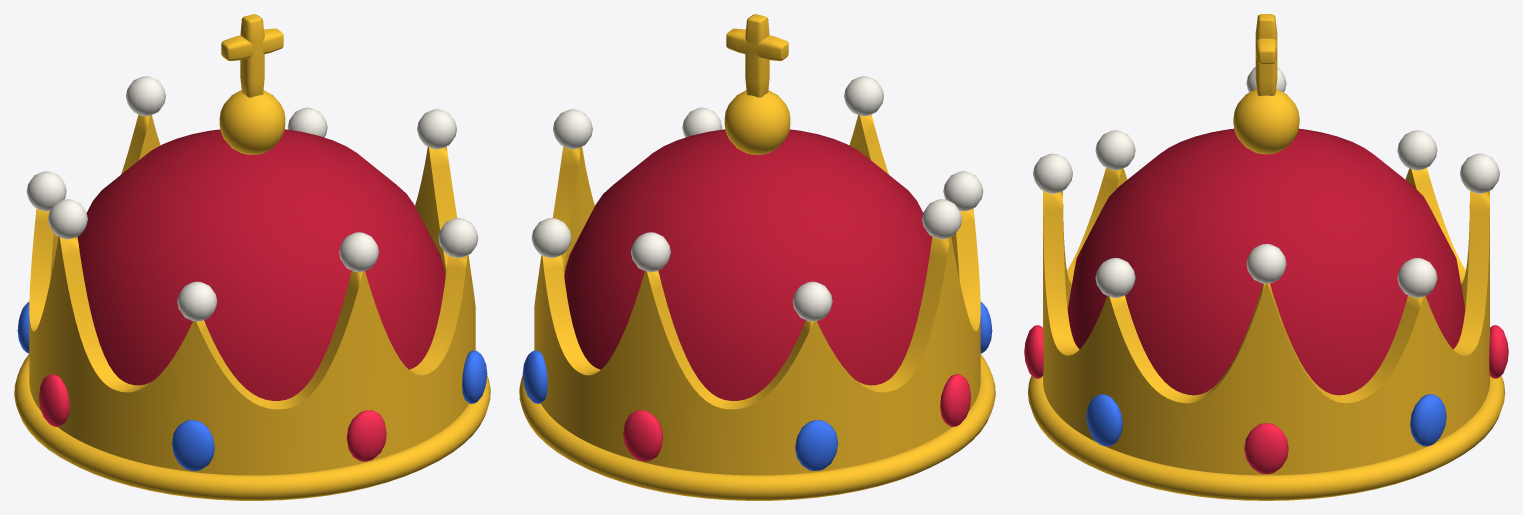
File: RoyalCrown.obj
3 views of the same model, side by side, from view 1: azimuth 30°, elevation 25°; view 2: azimuth 150°, elevation 25°; view 3: azimuth 270°, elevation 25° (orthographic).
Parts seen in each view (by area): view 1: CrownGold, CrownVelvet, CrownPearl, CrownSapphire, CrownRuby; view 2: CrownGold, CrownVelvet, CrownPearl, CrownSapphire, CrownRuby; view 3: CrownGold, CrownVelvet, CrownPearl, CrownRuby, CrownSapphire.
Boxes of the visible parts, x1=… form: CrownGold: x1=14, y1=14, x2=490, y2=500; CrownVelvet: x1=77, y1=129, x2=445, y2=400; CrownPearl: x1=26, y1=76, x2=478, y2=321; CrownSapphire: x1=17, y1=302, x2=487, y2=470; CrownRuby: x1=39, y1=374, x2=386, y2=461; CrownGold: x1=519, y1=14, x2=995, y2=500; CrownVelvet: x1=564, y1=129, x2=932, y2=400; CrownPearl: x1=531, y1=76, x2=983, y2=321; CrownSapphire: x1=522, y1=302, x2=992, y2=470; CrownRuby: x1=623, y1=374, x2=970, y2=461; CrownGold: x1=1027, y1=14, x2=1505, y2=500; CrownVelvet: x1=1067, y1=128, x2=1465, y2=395; CrownPearl: x1=1033, y1=67, x2=1499, y2=297; CrownRuby: x1=1024, y1=325, x2=1508, y2=473; CrownSapphire: x1=1086, y1=394, x2=1446, y2=446.
Size of the model in its own units: 1.08 by 0.9583 by 1.08.
